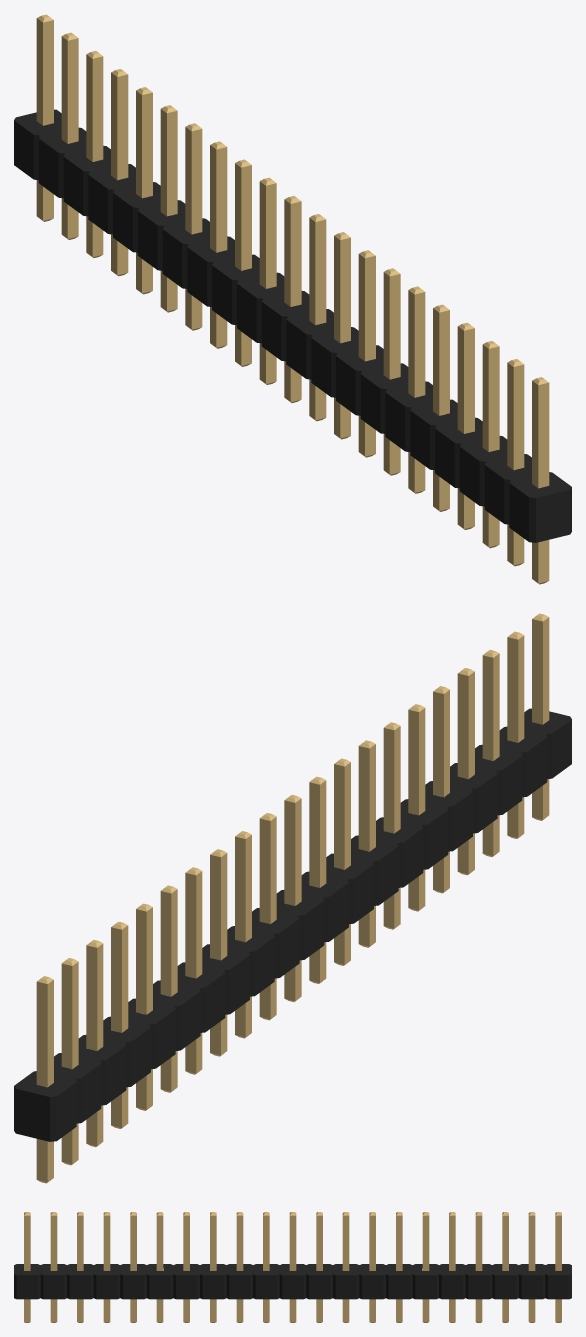
Rendered from kc-pinheader_1x21_p2.54mm_vertical.glb.
3 renders of one model, top to bottom at view 1: azimuth 30°, elevation 25°; view 2: azimuth 150°, elevation 25°; view 3: azimuth 270°, elevation 25°, orthographic. The views are drawn at different scales.
Visible parts, largest first — view 1: 0.75_0.5_0.25_0.9, 0_0_0_0; view 2: 0.75_0.5_0.25_0.9, 0_0_0_0; view 3: 0_0_0_0, 0.75_0.5_0.25_0.9.
Boxes of the visible parts, x1,y1,x2,y2 form: 0.75_0.5_0.25_0.9: [36, 14, 549, 584]; 0_0_0_0: [14, 109, 571, 542]; 0.75_0.5_0.25_0.9: [36, 613, 549, 1183]; 0_0_0_0: [14, 708, 571, 1141]; 0_0_0_0: [14, 1264, 571, 1299]; 0.75_0.5_0.25_0.9: [24, 1212, 561, 1322].
Size of the model in its own units: 0.2539 by 1.15 by 5.33.
